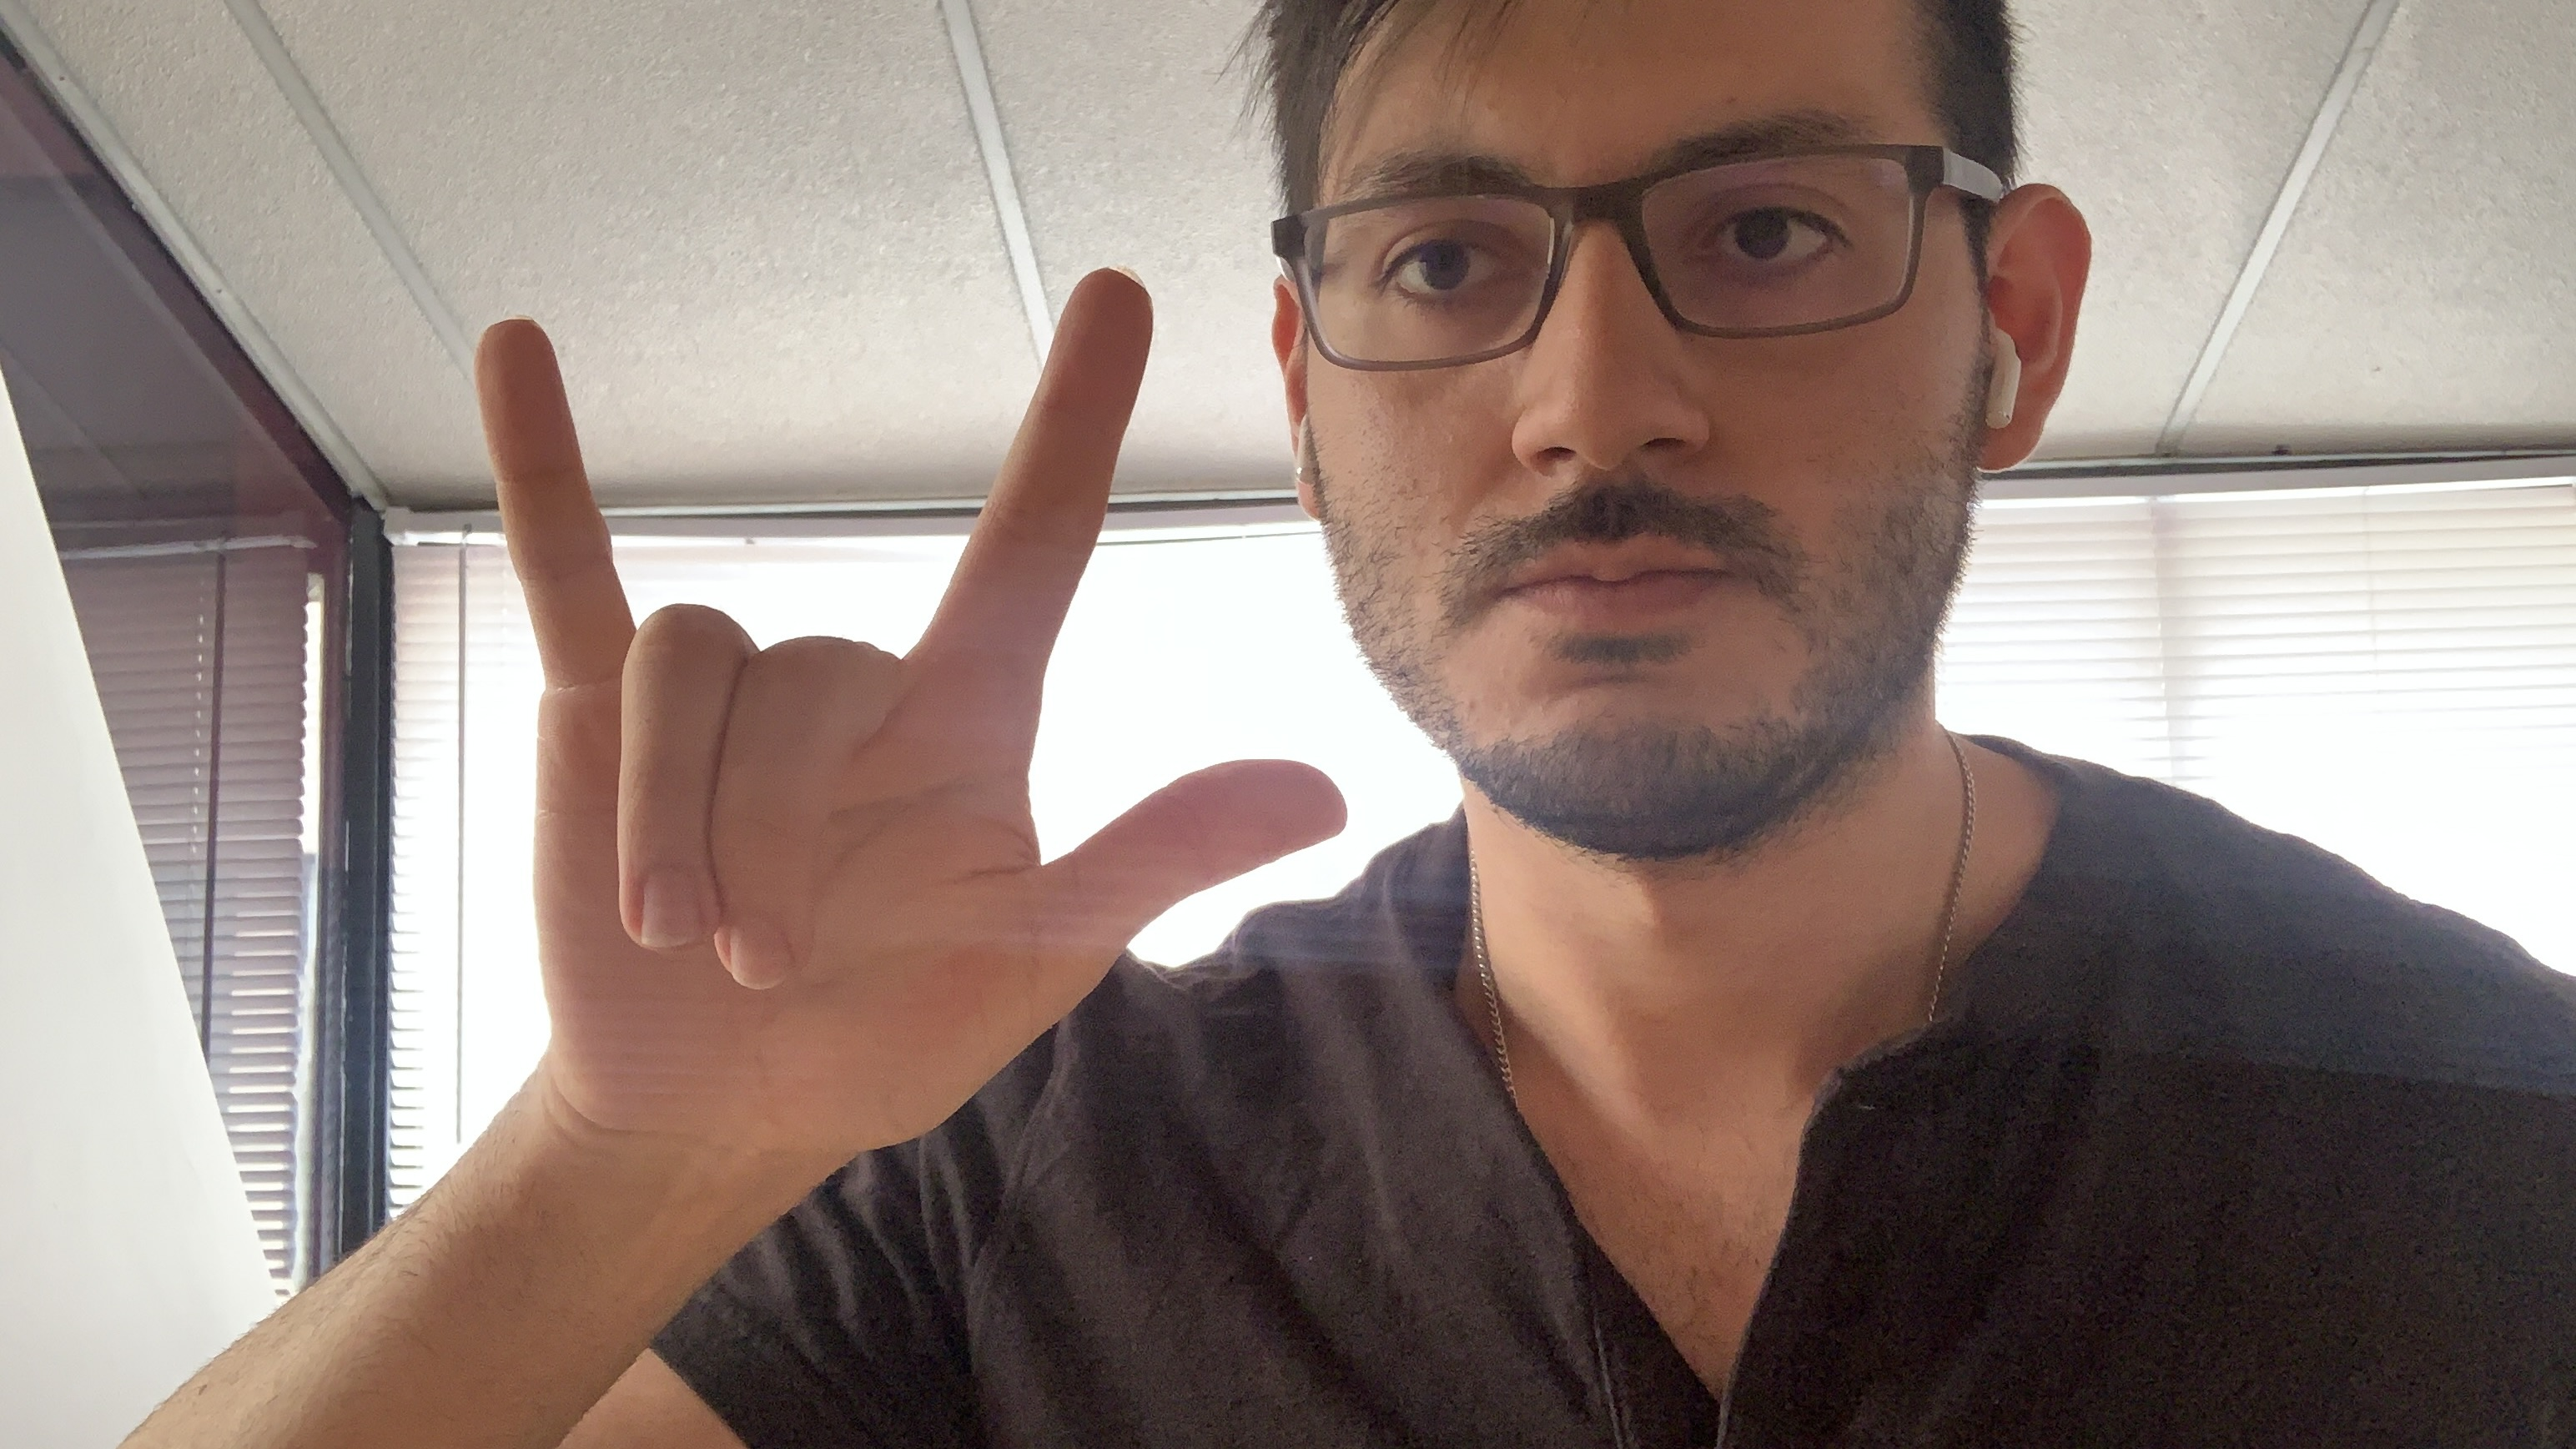I Love You: (448, 248, 1368, 1178)
